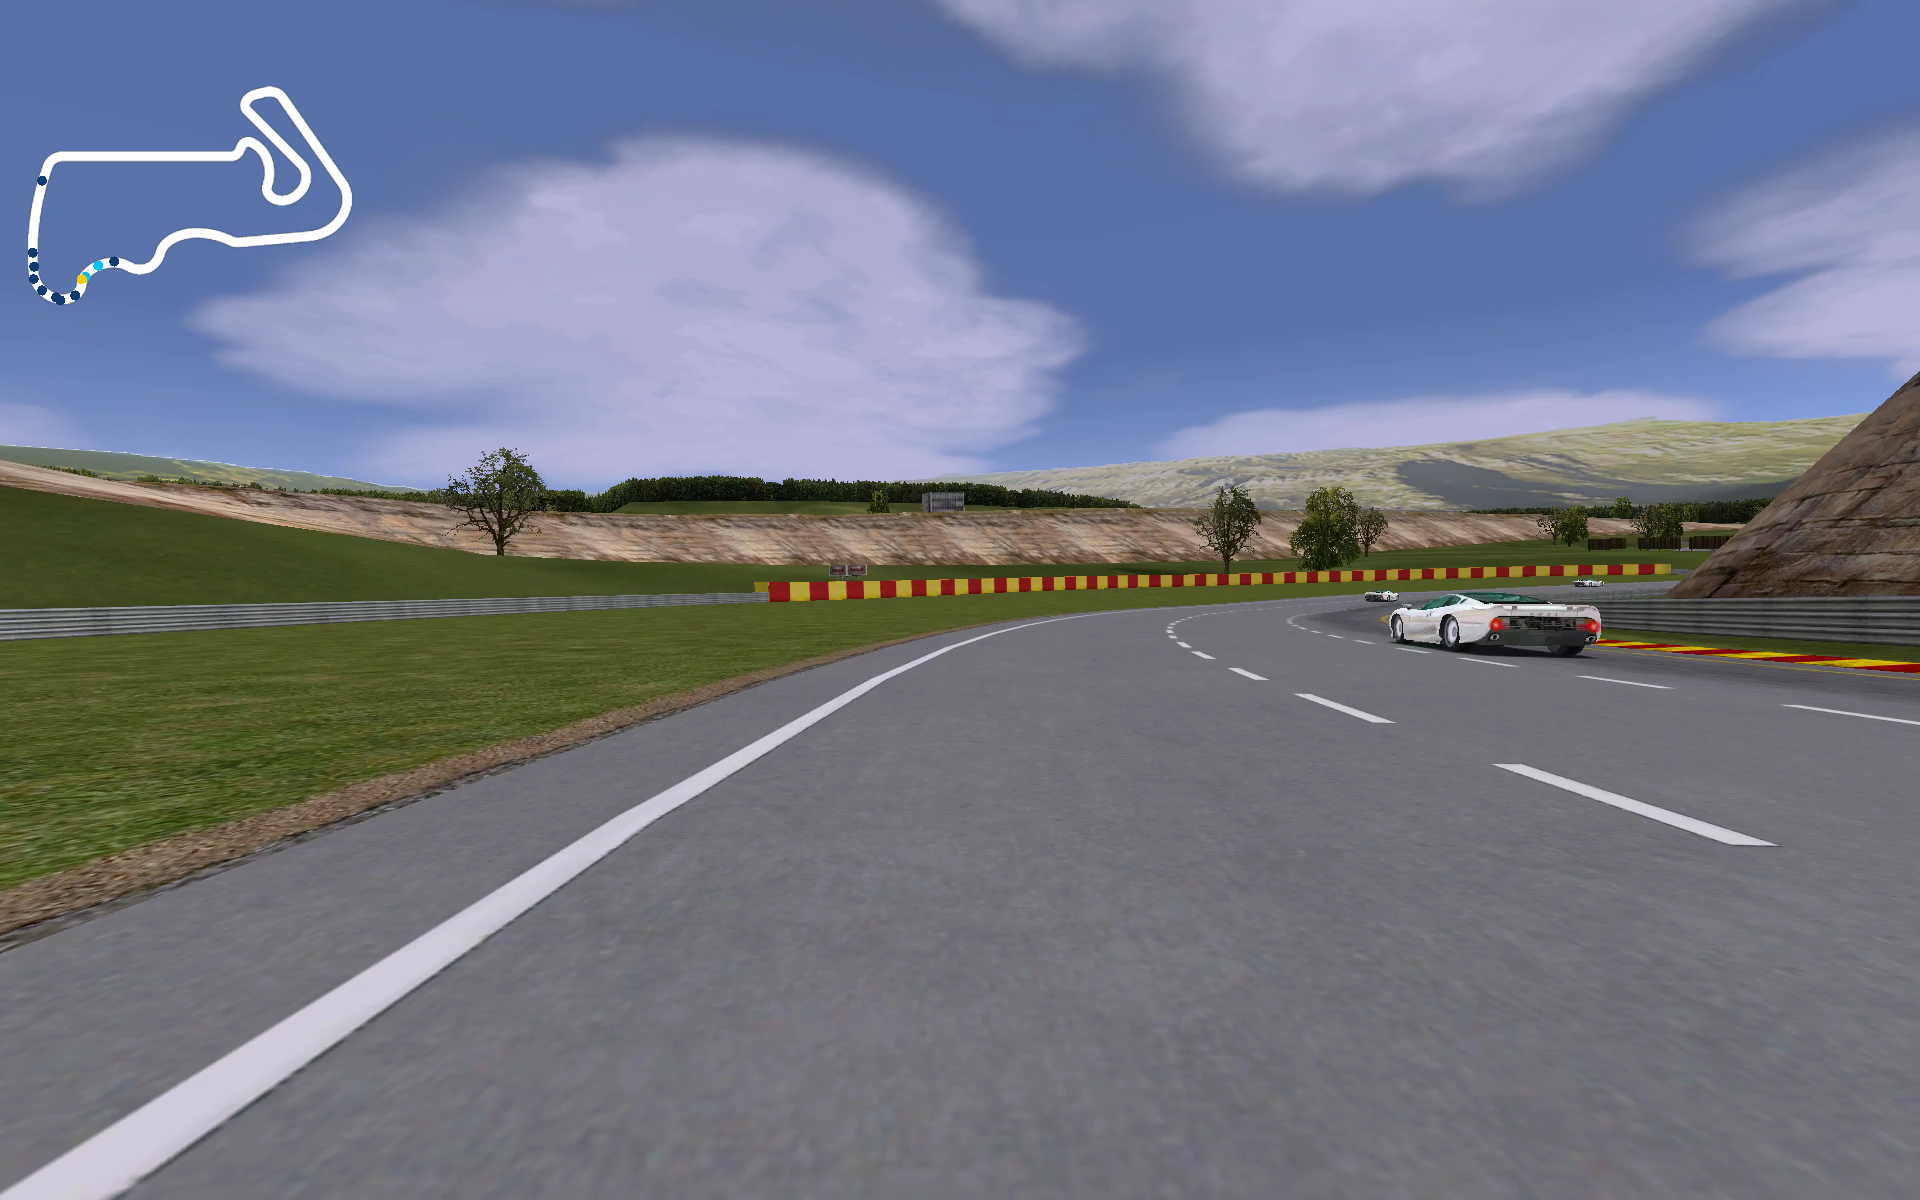car: (1386, 590, 1605, 657)
